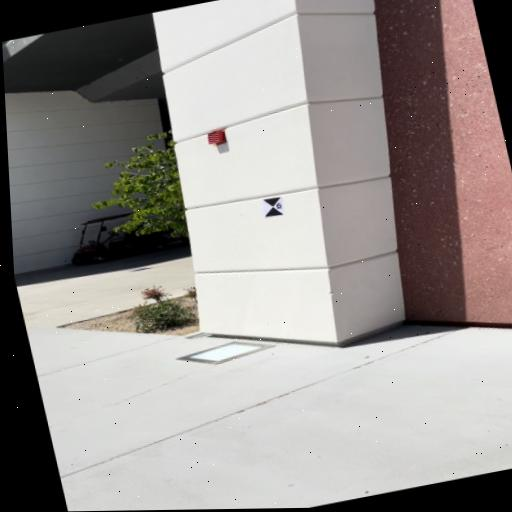target6: (261, 197, 284, 217)
